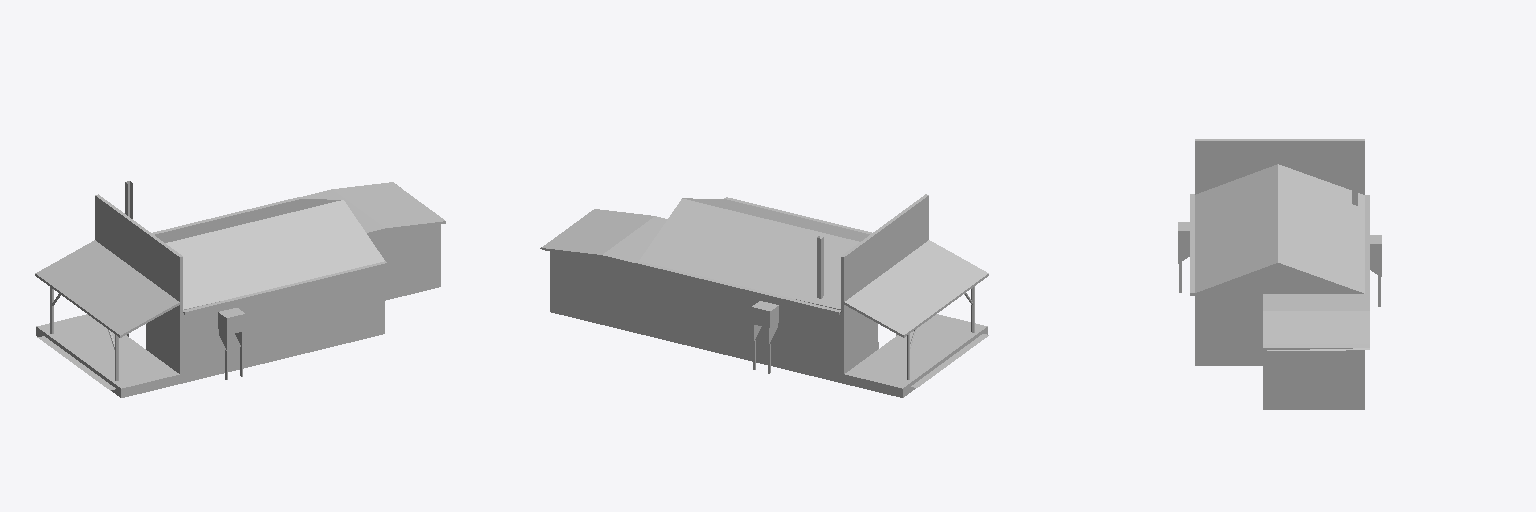
Rendered from GeneralStoreCollider.obj.
3 renders of one model, left to right at view 1: azimuth 30°, elevation 25°; view 2: azimuth 150°, elevation 25°; view 3: azimuth 270°, elevation 25°, orthographic.
Parts seen in each view (by area): view 1: collision1; view 2: collision1; view 3: collision1.
Boxes of the visible parts, x1,y1,x2,y2 form: collision1: [35, 181, 445, 397]; collision1: [540, 194, 988, 397]; collision1: [1178, 139, 1381, 409].
Bounding box in the file's own units: 1603 × 568 × 774.